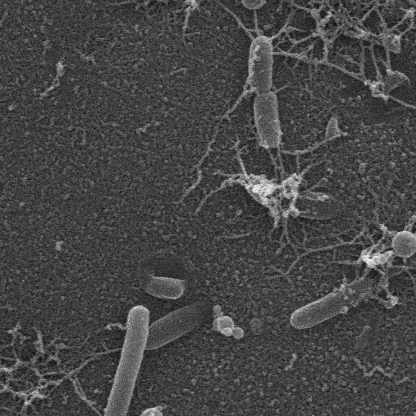cell2cell: (276, 54, 416, 121), (251, 10, 265, 39)
cell2surface: (47, 349, 123, 395), (57, 371, 107, 416), (203, 3, 256, 39), (270, 7, 303, 40), (273, 51, 317, 67)
regular: (295, 268, 386, 331), (103, 307, 148, 416), (143, 304, 209, 351), (254, 92, 281, 149), (250, 35, 275, 93), (206, 0, 264, 12), (101, 409, 162, 416)
